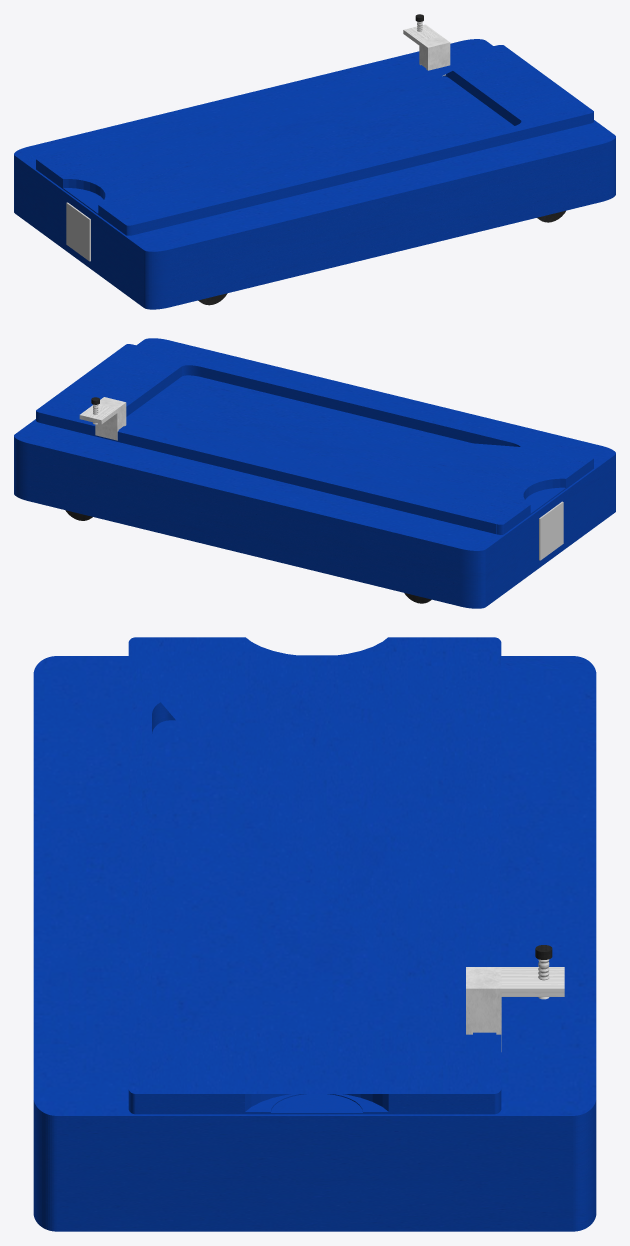
File: blue car.fbx
3 views of the same model, one above another, from view 1: azimuth 30°, elevation 25°; view 2: azimuth 150°, elevation 25°; view 3: azimuth 270°, elevation 25° (orthographic). The views are drawn at different scales.
Visible parts, largest first — view 1: 立方体.003, 立方体.010, 立方体.007; view 2: 立方体.003, 立方体.010, 立方体.007; view 3: 立方体.003, 立方体.010.
Boxes of the visible parts, box(x1,y1,x2,y2) form: 立方体.003: box(14, 39, 615, 309); 立方体.010: box(403, 24, 450, 76); 立方体.007: box(66, 202, 90, 261); 立方体.003: box(14, 338, 615, 608); 立方体.010: box(79, 397, 126, 440); 立方体.007: box(539, 501, 563, 560); 立方体.003: box(33, 637, 596, 1231); 立方体.010: box(466, 967, 564, 1051).
Bounding box in the file's own units: 2363 × 570 × 1219.
